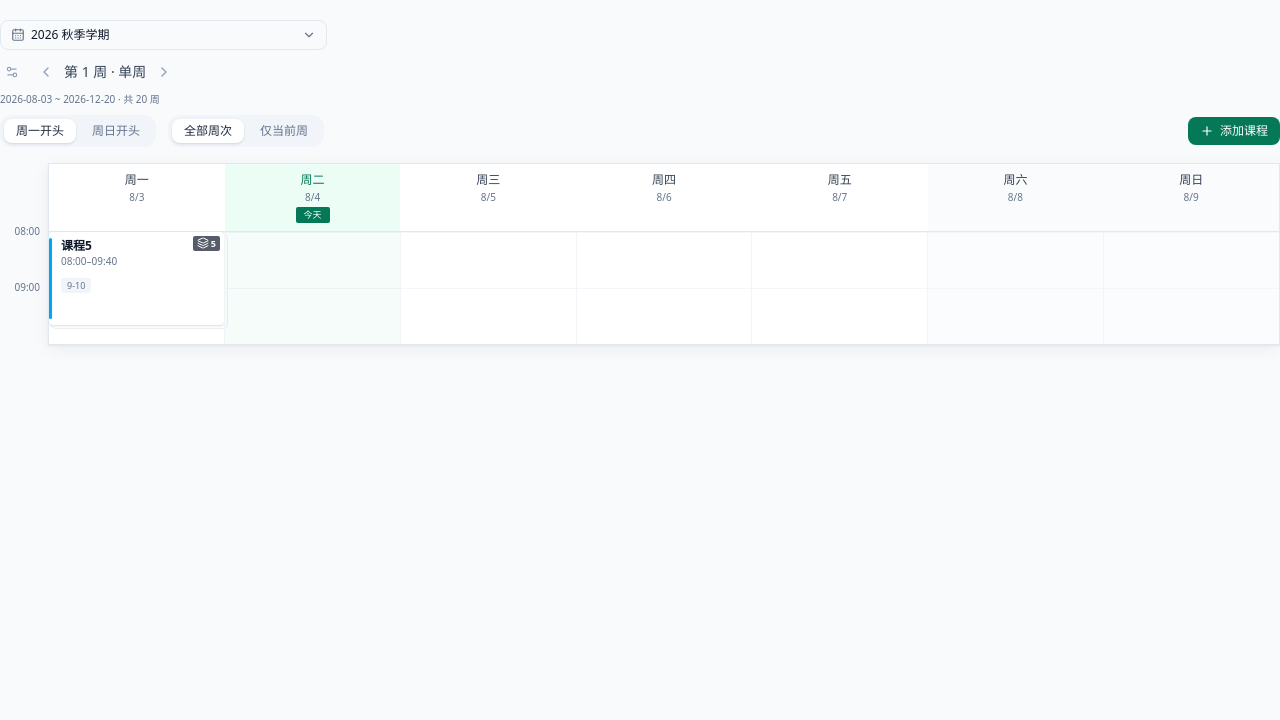
Test case: 视图空态 › 超过四门时只铺开四张并用 +N 收口
Click the button with aria-label "共 5 门". click: (136, 278)
box: x1=49 y1=232 x2=224 y2=325
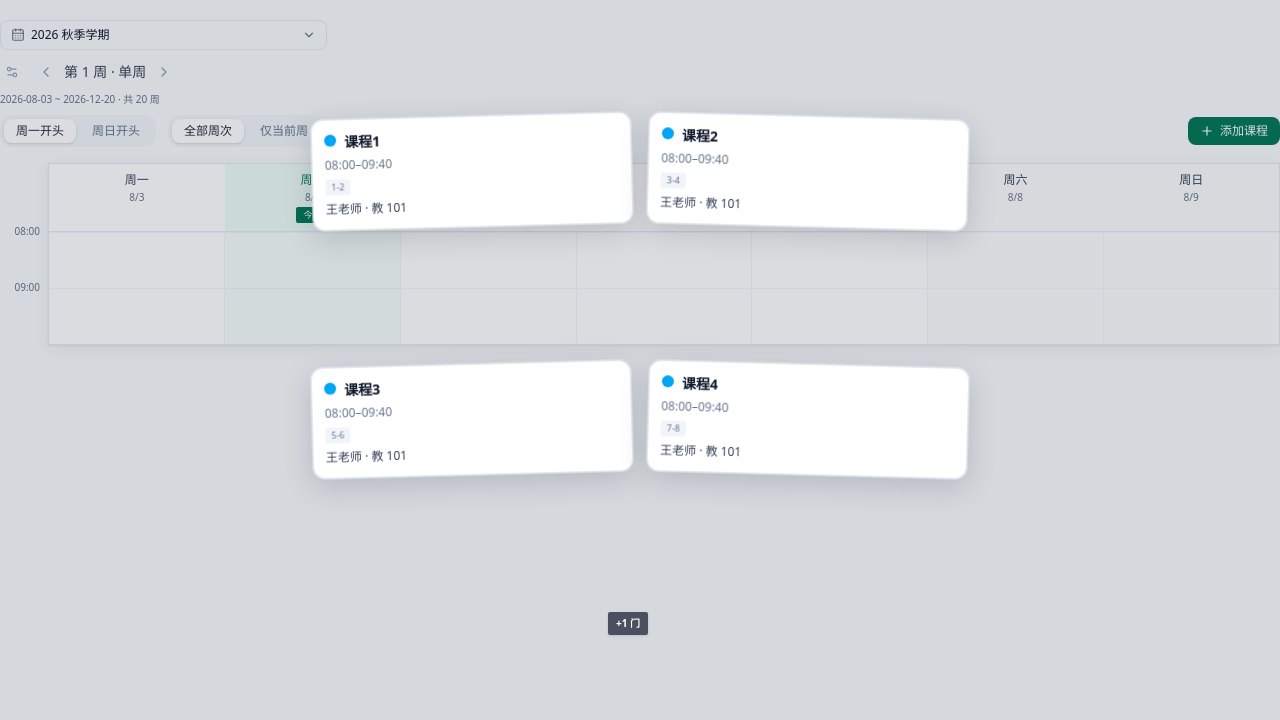
Expected: the button with test id "spread-card-r1" is shown, x1=311 y1=112 x2=633 y2=231
Expected: the button with test id "spread-card-r4" is shown, x1=647 y1=360 x2=969 y2=479
Click the button "+1 门". click: (628, 624)
box: x1=608 y1=612 x2=648 y2=635
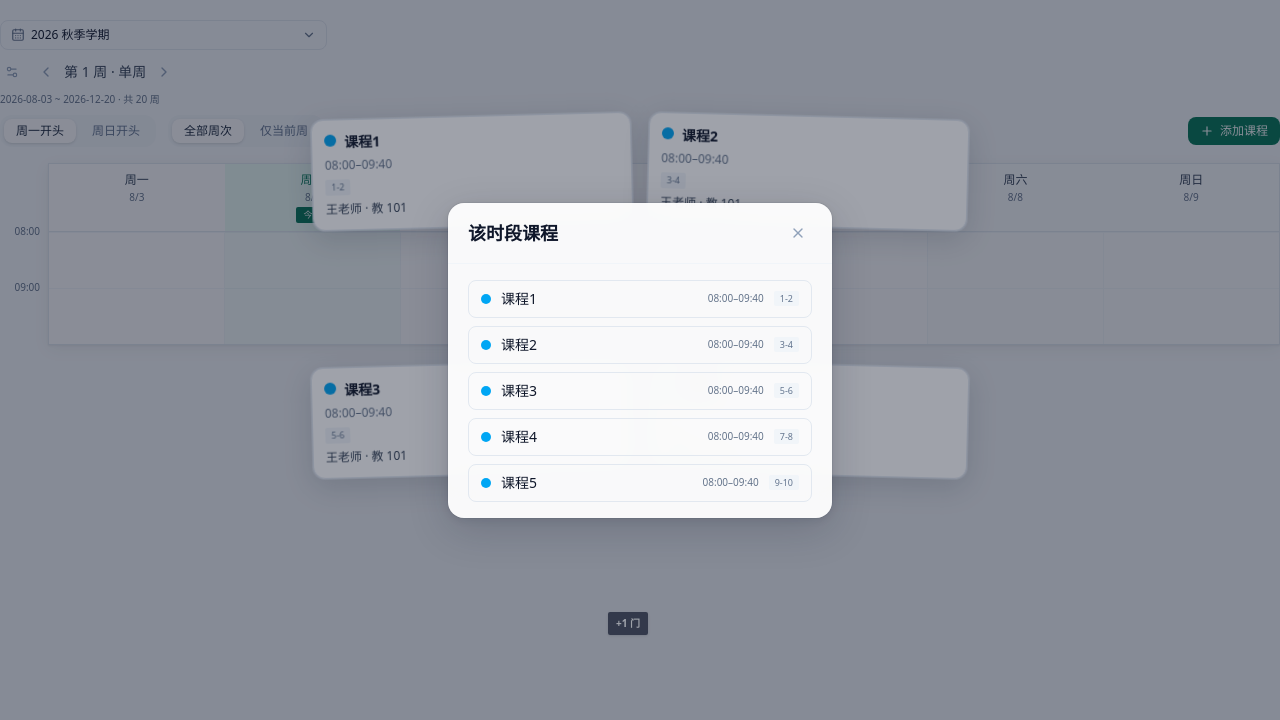
Expected: the text "课程5" is shown, x1=501 y1=472 x2=537 y2=492
